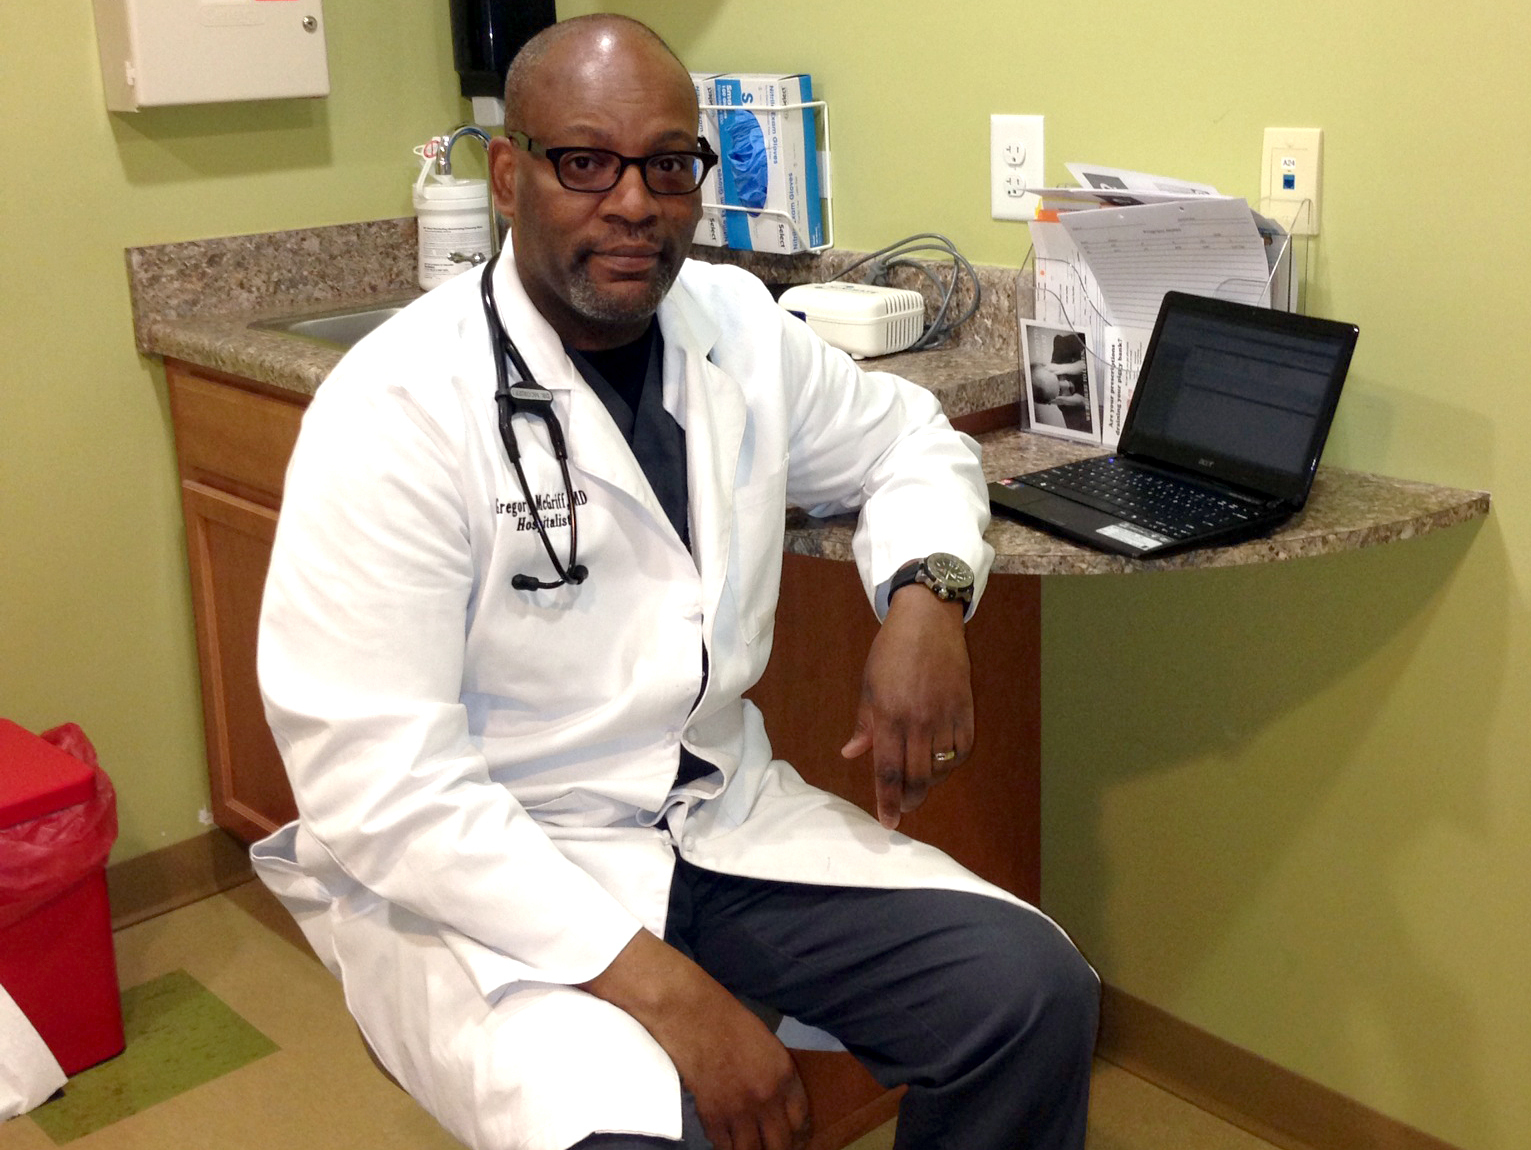hand: (840, 596, 978, 834), (653, 964, 814, 1150)
